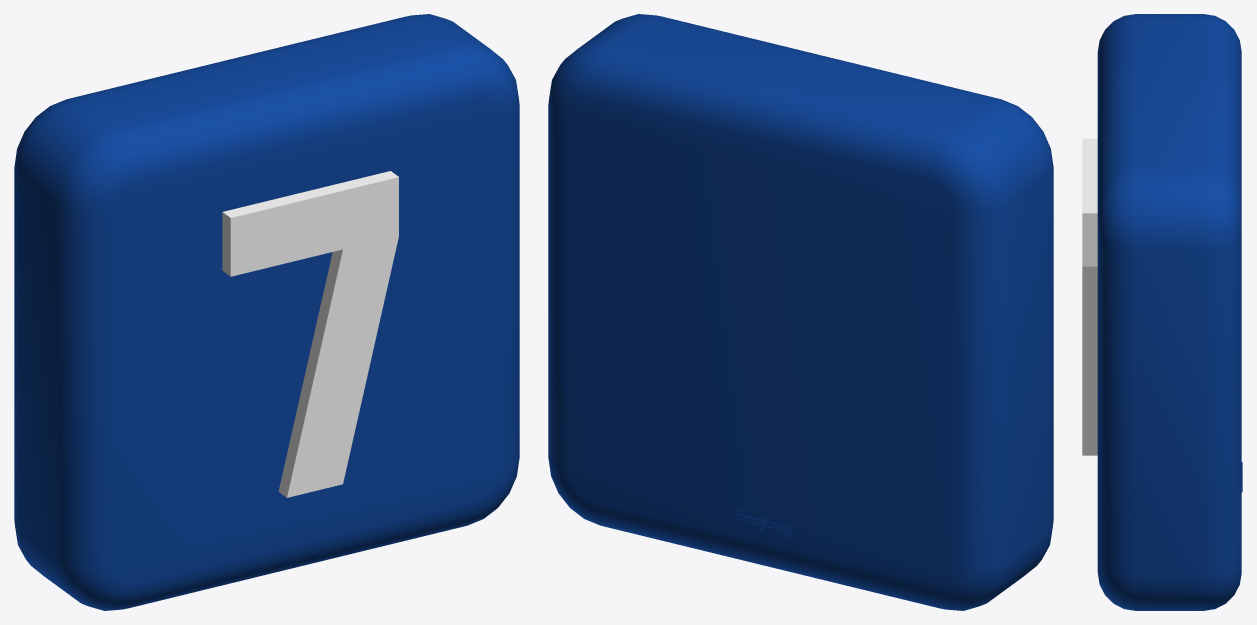
File: keycap_7.gltf
The picture shows the model from 3 angles, left to right: view 1: azimuth 30°, elevation 25°; view 2: azimuth 150°, elevation 25°; view 3: azimuth 270°, elevation 25°; orthographic projection. The views are drawn at different scales.
Visible parts, largest first — view 1: Cube.6585; view 2: Cube.6585; view 3: Cube.6585.
Part boxes in pixels (x1=…): Cube.6585: x1=14, y1=14, x2=519, y2=610; Cube.6585: x1=548, y1=14, x2=1053, y2=610; Cube.6585: x1=1082, y1=14, x2=1242, y2=610.
Size of the model in its own units: 2.2 by 2.2 by 0.7337.
Materials: 1 (1 with a texture image).
